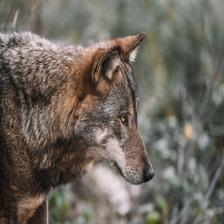WOLF: (0, 27, 155, 219)
